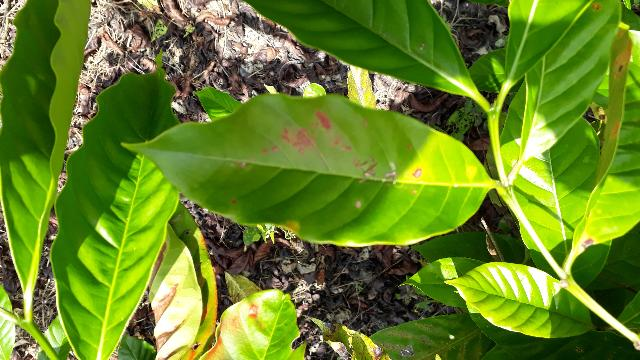red_spider_mite: (146, 108, 524, 273)
